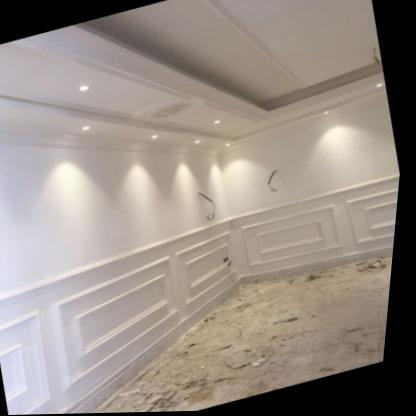Futec frame: (55, 231, 243, 396), (233, 184, 403, 293)
